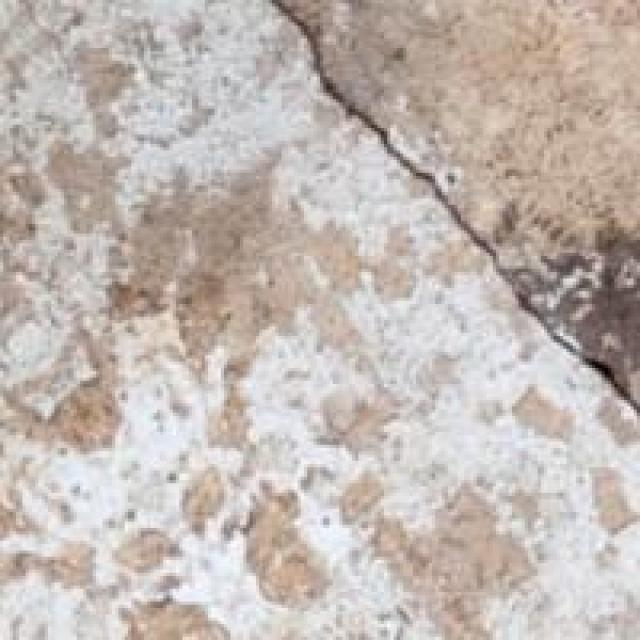Crack: (269, 4, 637, 502)
